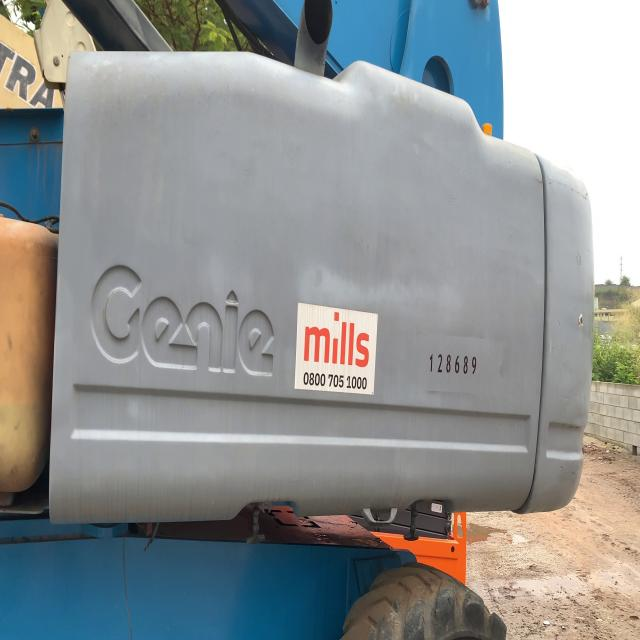Adesivos: (293, 300, 379, 398)
